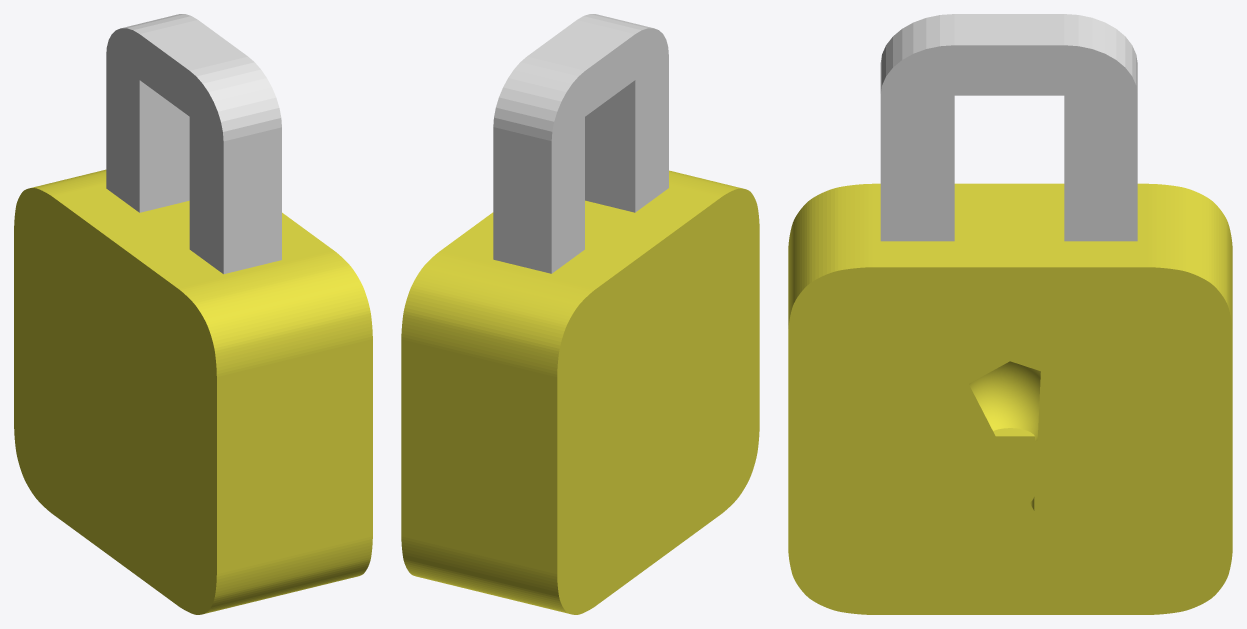
Rendered from lock.fbx.
3 views of the same model, side by side, from view 1: azimuth 30°, elevation 25°; view 2: azimuth 150°, elevation 25°; view 3: azimuth 270°, elevation 25° (orthographic). The views are drawn at different scales.
Parts seen in each view (by area): view 1: Cube, Cube.001; view 2: Cube, Cube.001; view 3: Cube, Cube.001.
Part boxes in pixels (x1=…): Cube: x1=14, y1=169, x2=372, y2=614; Cube.001: x1=106, y1=14, x2=281, y2=274; Cube: x1=401, y1=170, x2=759, y2=614; Cube.001: x1=493, y1=14, x2=668, y2=273; Cube: x1=788, y1=183, x2=1232, y2=614; Cube.001: x1=880, y1=14, x2=1137, y2=241.
Bounding box in the file's own units: 88.87 × 270 × 200.
